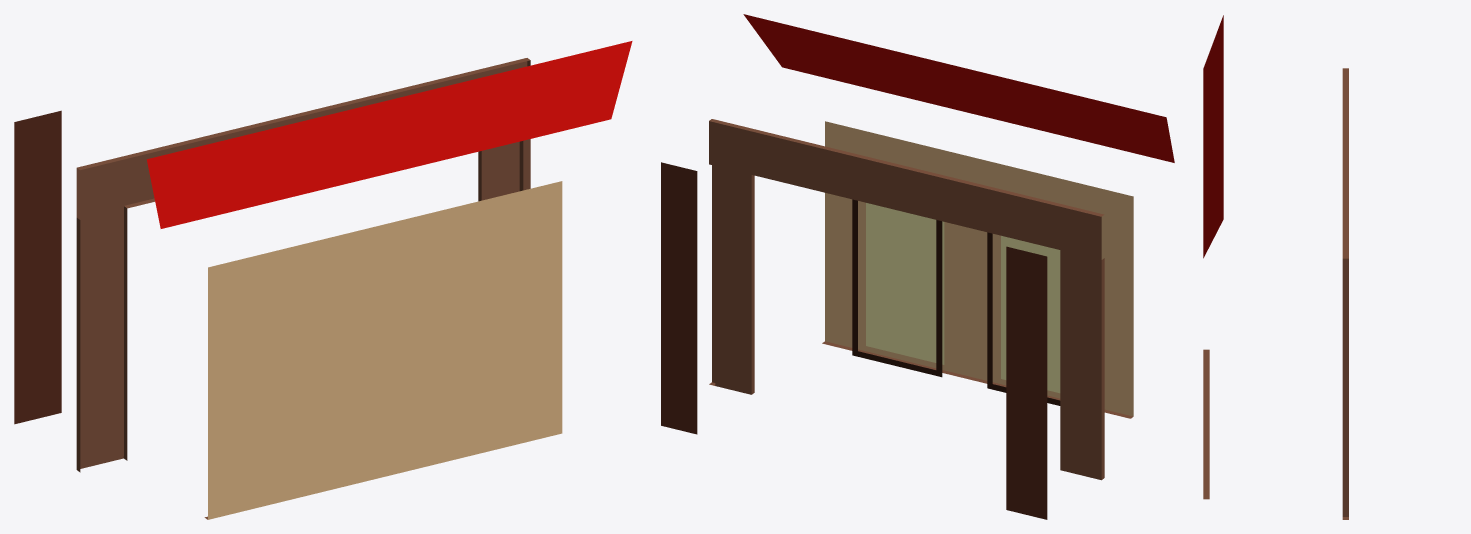
Rendered from candy_building_top.fbx.
3 views of the same model, side by side, from view 1: azimuth 30°, elevation 25°; view 2: azimuth 150°, elevation 25°; view 3: azimuth 270°, elevation 25° (orthographic). The views are drawn at different scales.
Parts seen in each view (by area): view 1: candy_building_top; view 2: candy_building_top; view 3: candy_building_top.
Part boxes in pixels (x1,y1,x2,y2): candy_building_top: (14, 41, 632, 519); candy_building_top: (661, 14, 1174, 519); candy_building_top: (1203, 15, 1348, 519).
Size of the model in its own units: 658 by 471 by 343.
